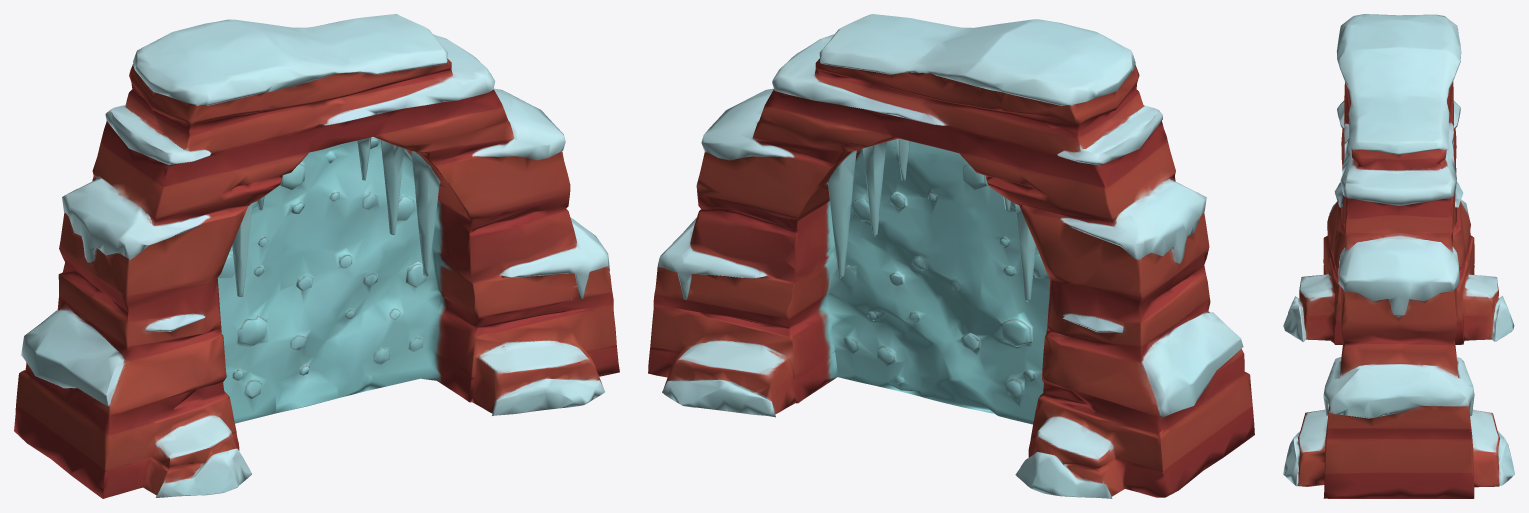
Rendered from cave.glb.
3 views of the same model, side by side, from view 1: azimuth 30°, elevation 25°; view 2: azimuth 150°, elevation 25°; view 3: azimuth 270°, elevation 25° (orthographic). The views are drawn at different scales.
Visible parts, largest first — view 1: tripo_node_68fc27ec-8a30-4e4c-ac1b-c633bbf54dd0; view 2: tripo_node_68fc27ec-8a30-4e4c-ac1b-c633bbf54dd0; view 3: tripo_node_68fc27ec-8a30-4e4c-ac1b-c633bbf54dd0.
Part boxes in pixels (x1=…): tripo_node_68fc27ec-8a30-4e4c-ac1b-c633bbf54dd0: x1=14, y1=14, x2=619, y2=498; tripo_node_68fc27ec-8a30-4e4c-ac1b-c633bbf54dd0: x1=648, y1=14, x2=1254, y2=498; tripo_node_68fc27ec-8a30-4e4c-ac1b-c633bbf54dd0: x1=1283, y1=14, x2=1514, y2=498.
Bounding box in the file's own units: 1 × 0.6982 × 0.453.
1 material, 1 textured.
